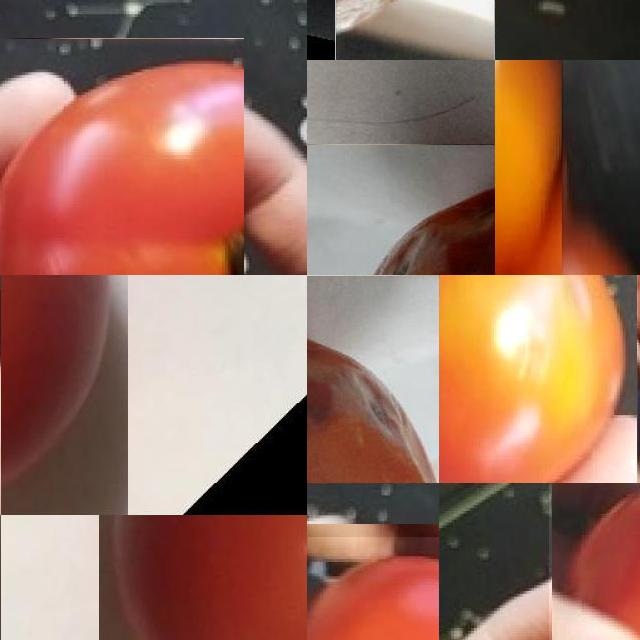0: (0, 38, 244, 275), (1, 275, 127, 515), (99, 515, 307, 640)
Fresh Tomato: (439, 275, 638, 483), (307, 537, 439, 640), (495, 220, 640, 275)
Rotten Tomato: (307, 275, 439, 483), (307, 143, 495, 275)
